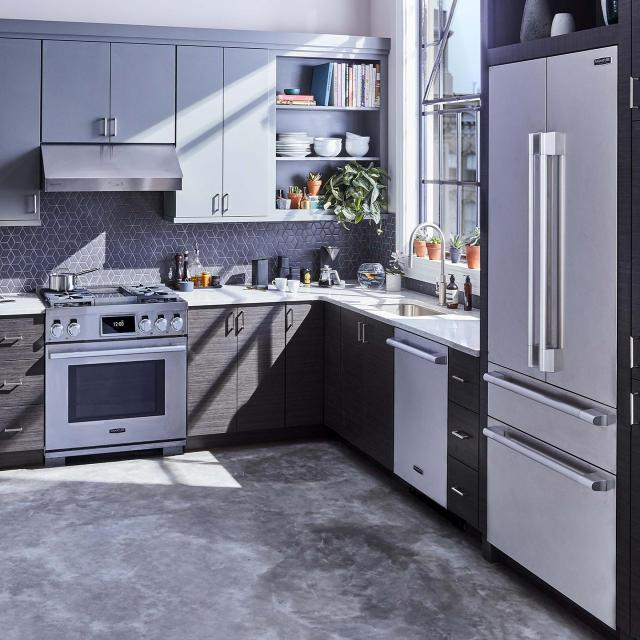dishwasher: (389, 323, 453, 510)
